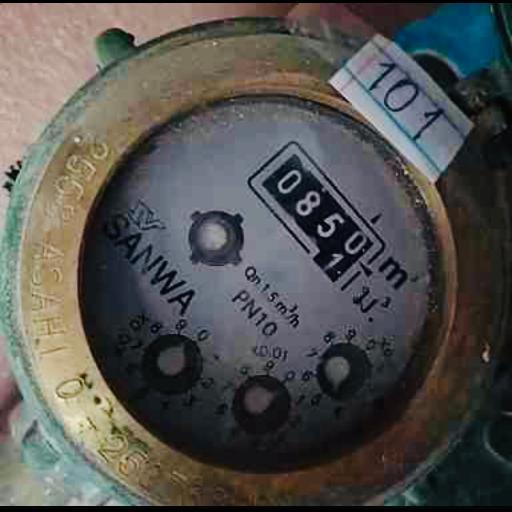0: (313, 221, 376, 283), (262, 153, 317, 208)
5: (301, 199, 356, 252)
8: (281, 176, 336, 230)
border_water_meter_number: (244, 138, 391, 293)
